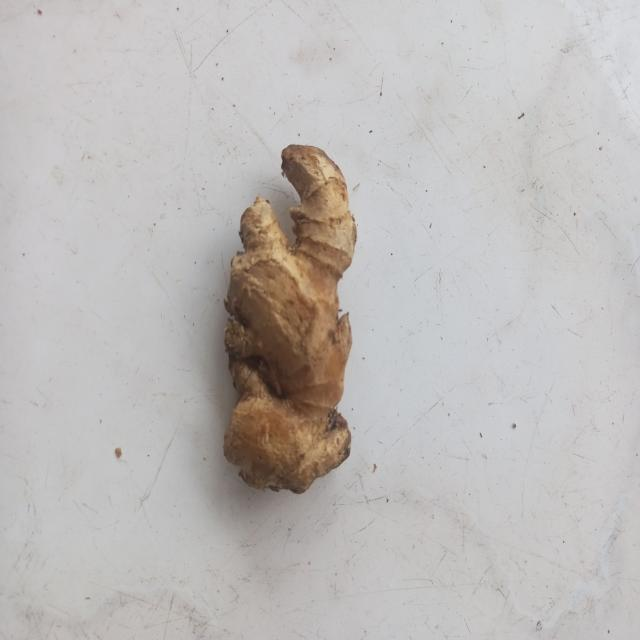ginger: (224, 144, 356, 478)
